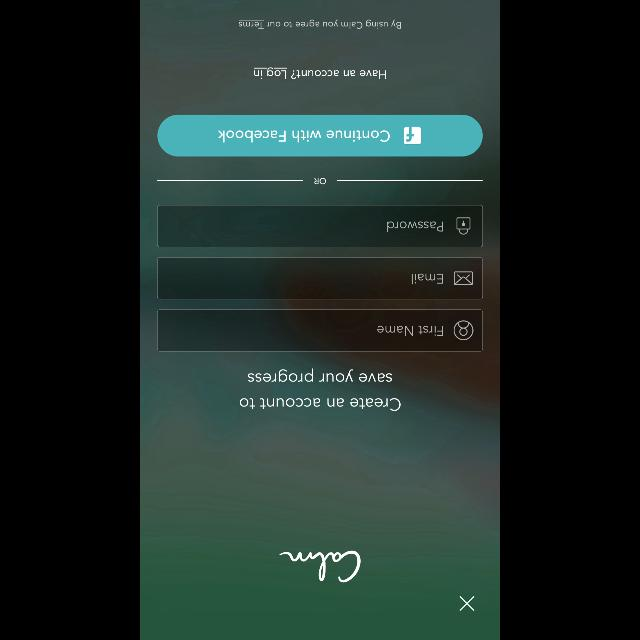icon: (453, 320, 473, 340), (453, 271, 472, 285), (456, 218, 470, 235), (460, 596, 474, 610)
image: (279, 550, 361, 582)
input: (158, 309, 482, 351), (158, 257, 482, 299), (158, 205, 482, 247)
text: (240, 368, 400, 412), (239, 19, 401, 29), (254, 67, 386, 79), (377, 326, 443, 336), (387, 222, 443, 232), (412, 274, 442, 284), (314, 178, 326, 185)
textbutton: (158, 115, 482, 157)
